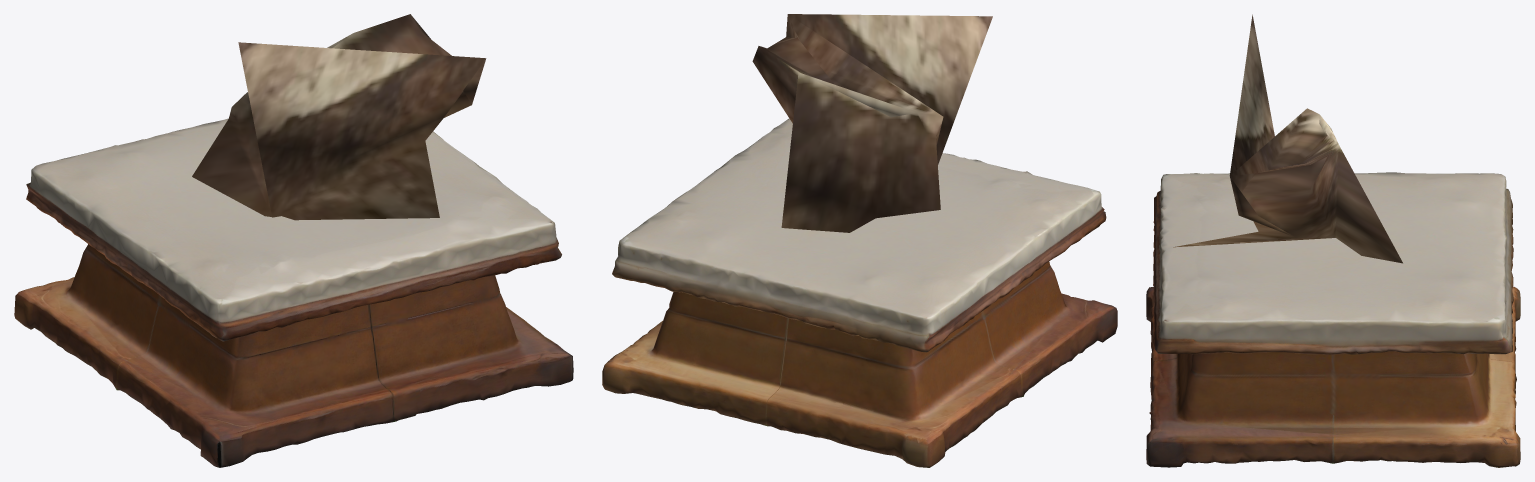
File: benda5.glb
3 renders of one model, left to right at view 1: azimuth 30°, elevation 25°; view 2: azimuth 150°, elevation 25°; view 3: azimuth 270°, elevation 25°, orthographic. The views are drawn at different scales.
Visible parts, largest first — view 1: Mesh_0, rock.002; view 2: Mesh_0, rock.002; view 3: Mesh_0, rock.002.
Boxes of the visible parts, x1,y1,x2,y2 form: Mesh_0: (14, 118, 573, 467); rock.002: (192, 14, 486, 220); Mesh_0: (602, 118, 1117, 467); rock.002: (752, 14, 992, 232); Mesh_0: (1146, 172, 1520, 467); rock.002: (1173, 14, 1402, 263).
Bounding box in the file's own units: 2.48 × 2.43 × 2.48.
Materials: 2 (2 with a texture image).
